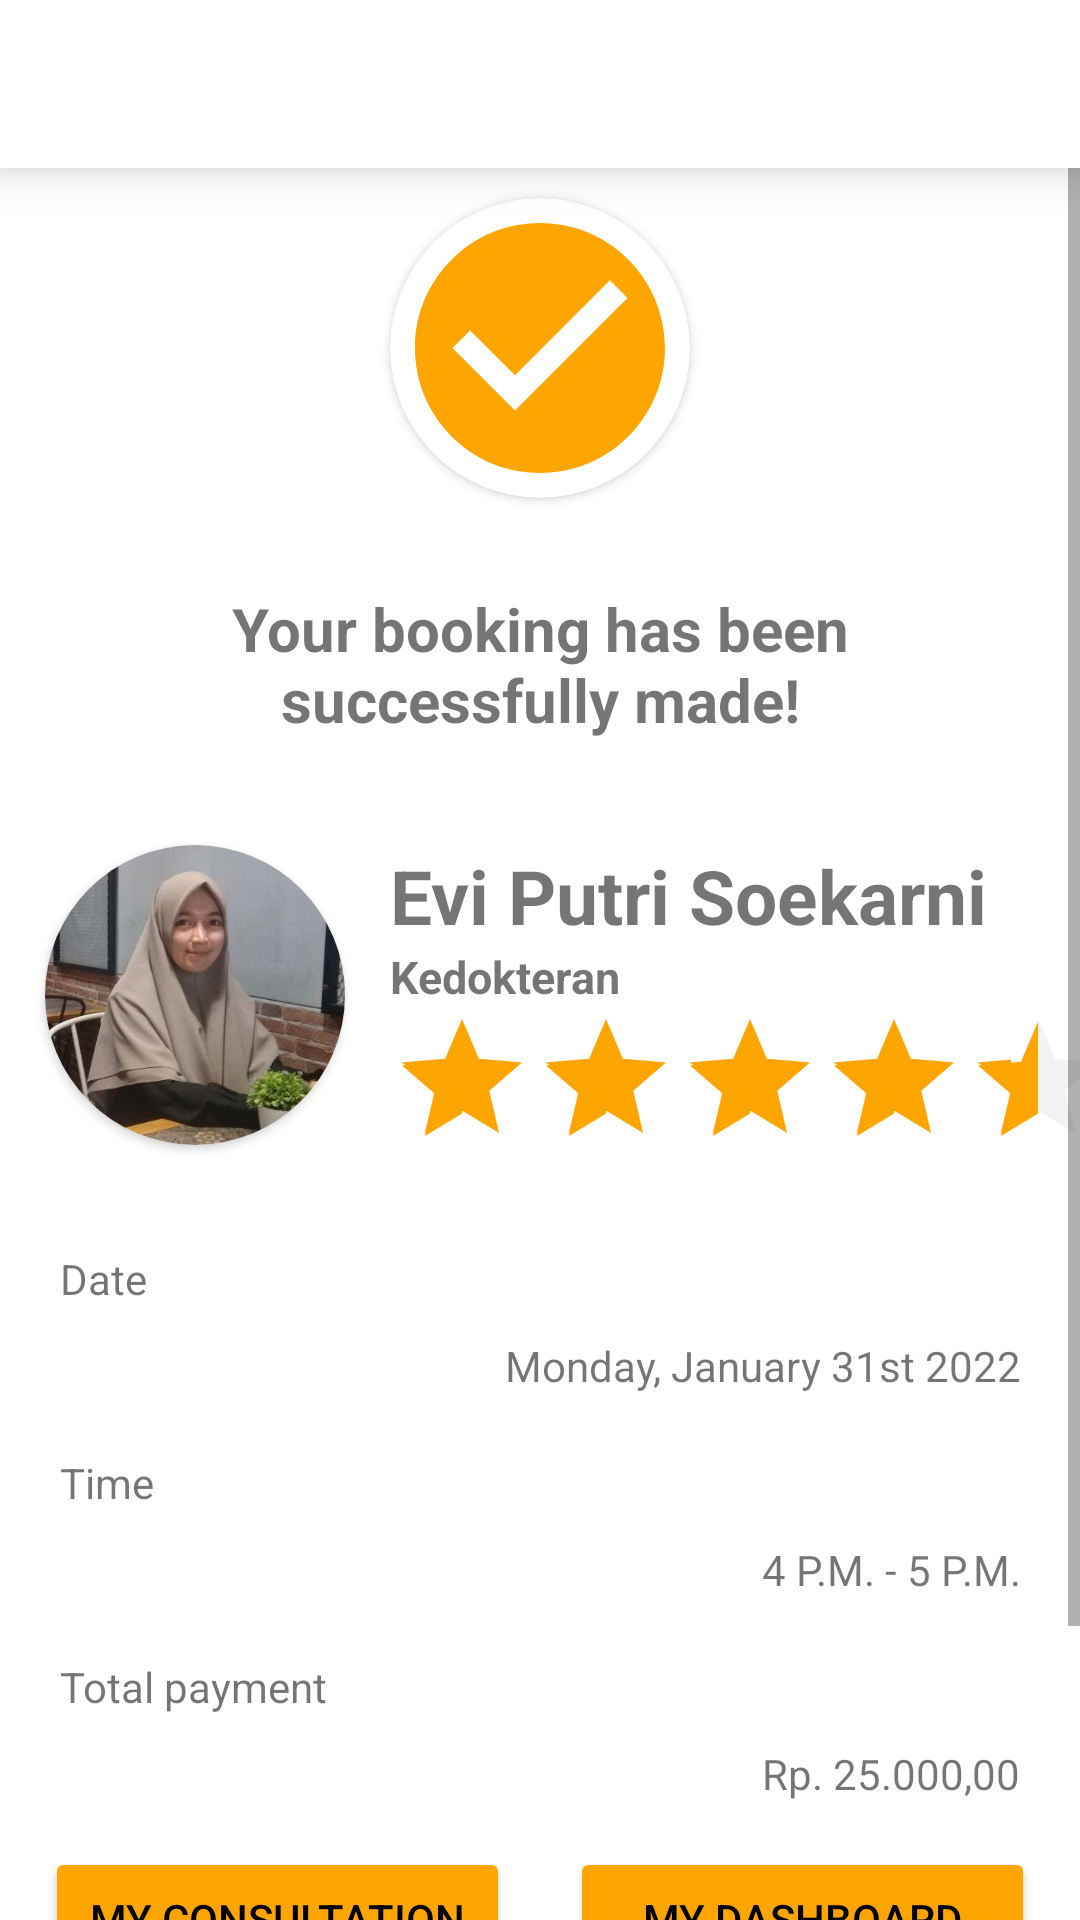

Named icons in this screenshot (1080px x 1920px) and their centers, point (x, y):
check circle: point (540, 360)
